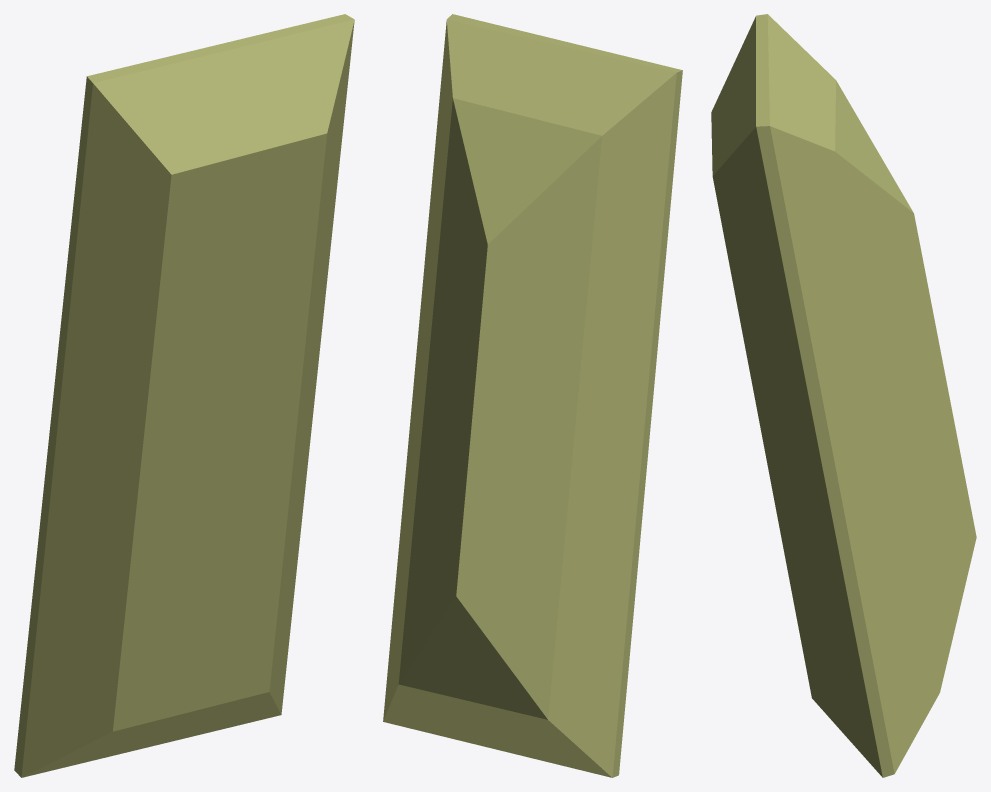
Rendered from TR1_Spacers_BaguetteStone.001 3.glb.
3 renders of one model, left to right at view 1: azimuth 30°, elevation 25°; view 2: azimuth 150°, elevation 25°; view 3: azimuth 270°, elevation 25°, orthographic. The views are drawn at different scales.
Parts seen in each view (by area): view 1: TR1_Spacers_BaguetteStone.001; view 2: TR1_Spacers_BaguetteStone.001; view 3: TR1_Spacers_BaguetteStone.001.
Part boxes in pixels (x1,y1,x2,y2): TR1_Spacers_BaguetteStone.001: [14, 14, 354, 777]; TR1_Spacers_BaguetteStone.001: [383, 14, 682, 777]; TR1_Spacers_BaguetteStone.001: [711, 14, 976, 777].
Bounding box in the file's own units: 0.2187 × 0.5998 × 0.2209.
